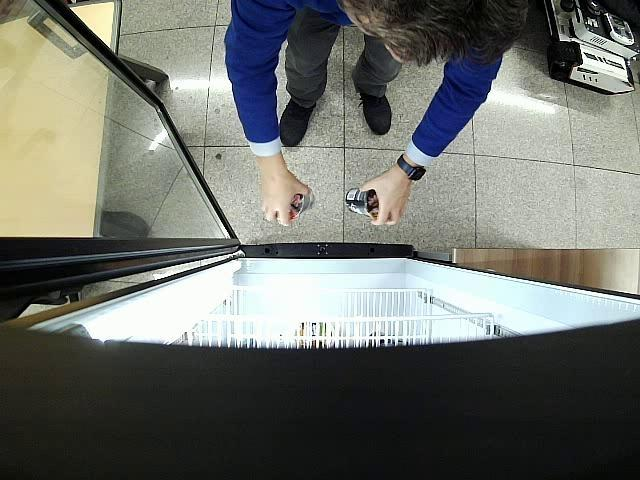08_buldak_S: (346, 189, 378, 219), (289, 190, 315, 220)
